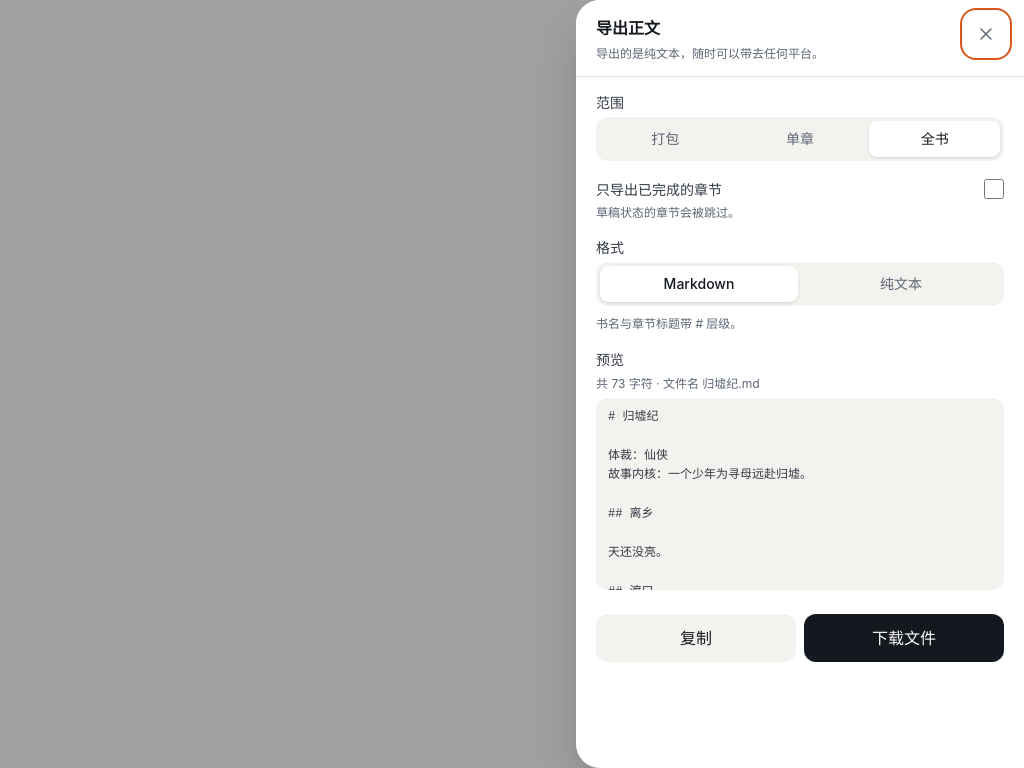
Test: 打包范围 › 逐章改格式只影响那一章，「全部改用默认格式」能一次还原
This screenshot has width=1024, height=768.
Click the button "打包": [665, 138] box [600,120,731,156]
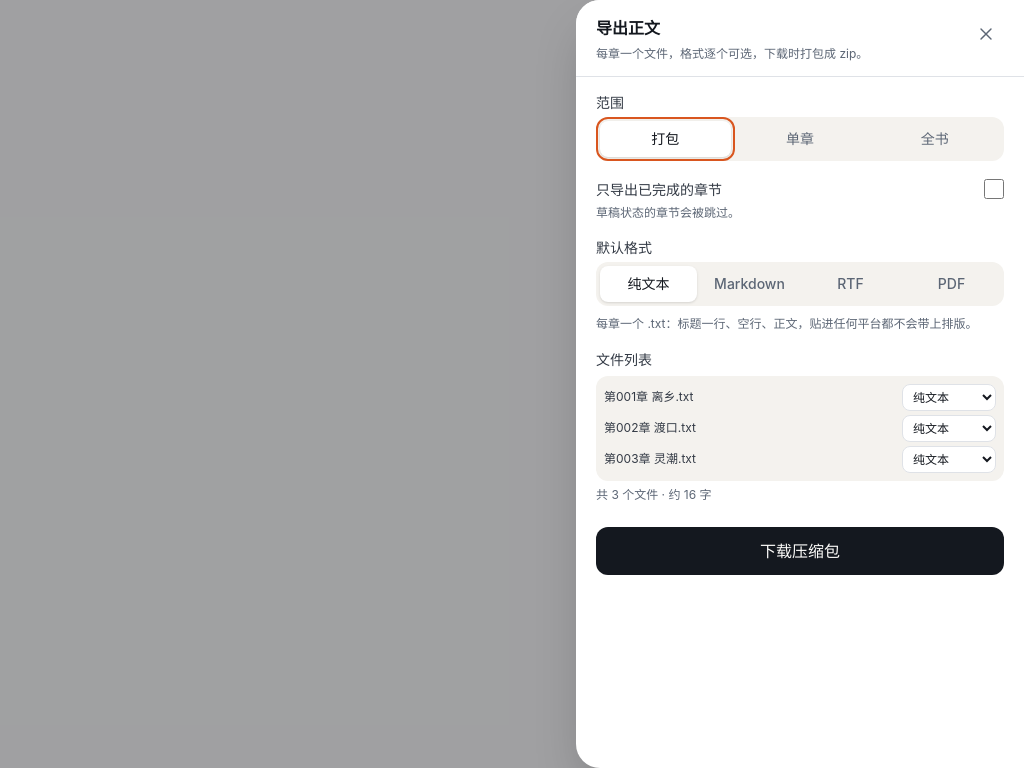
Select "PDF" in the dropdown named "第001章 离乡.txt 格式": [949, 397] box [902,384,996,410]
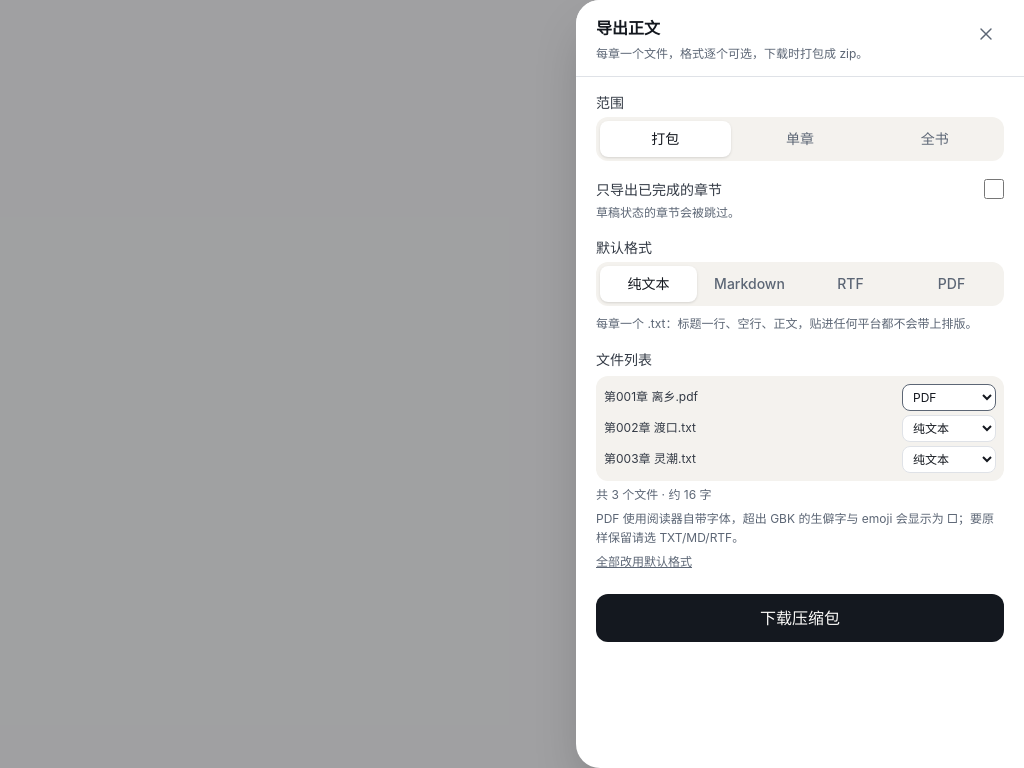
Result: the text "第002章 渡口.txt" is shown at [604,420,696,435]
Result: the text "第001章 离乡.pdf" is shown at [604,389,698,404]
Result: the text "PDF 使用阅读器自带字体，超出 GBK 的生僻字与 emoji 会显示为 □；要原样保留请选 TXT/MD/RTF。" is shown at [596,508,1004,548]
Click the button "全部改用默认格式": [644, 562] box [596,554,692,570]
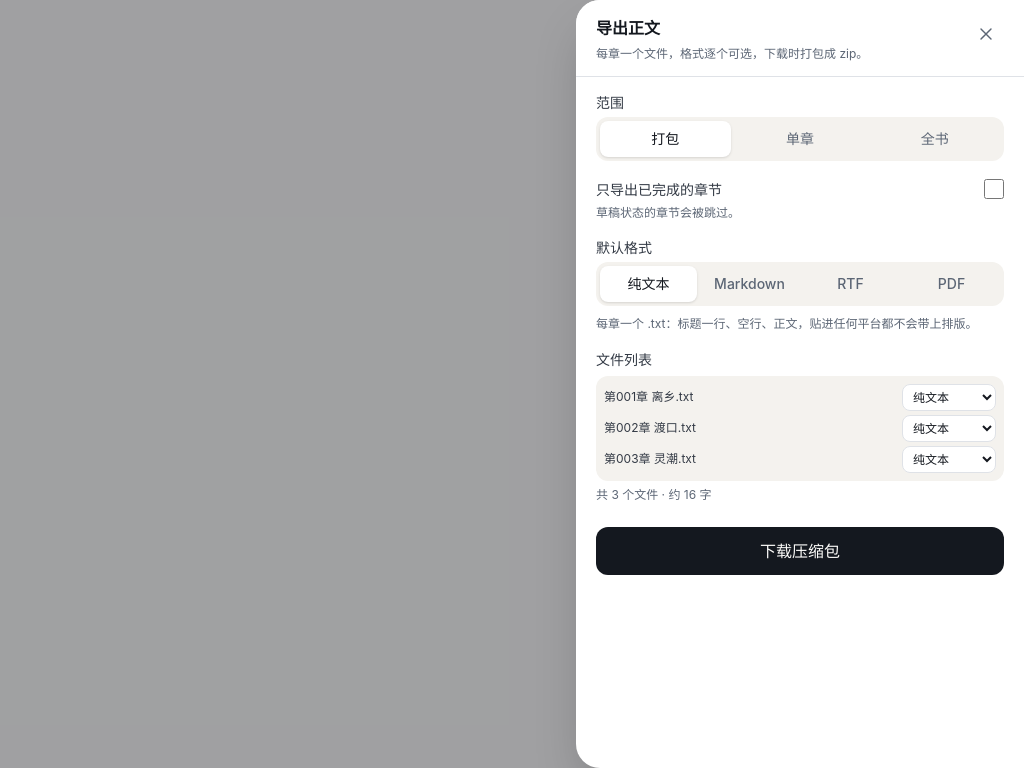
Result: the text "第001章 离乡.txt" is shown at [604,389,694,404]
Result: the button "全部改用默认格式" is gone
